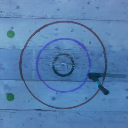Axe Tip: (92, 73, 102, 76)
